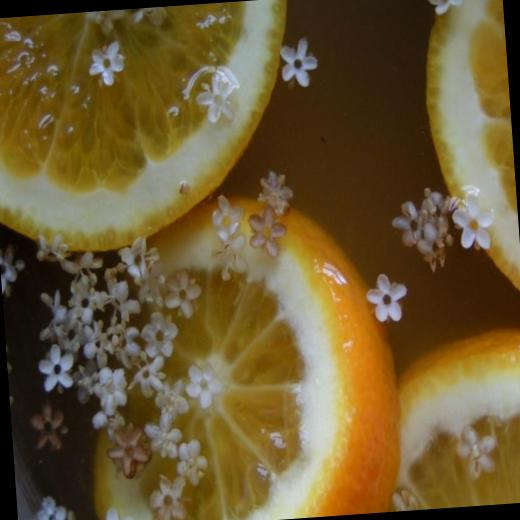Grape: (72, 184, 403, 520), (0, 0, 279, 253), (419, 0, 520, 295), (379, 326, 520, 510)
